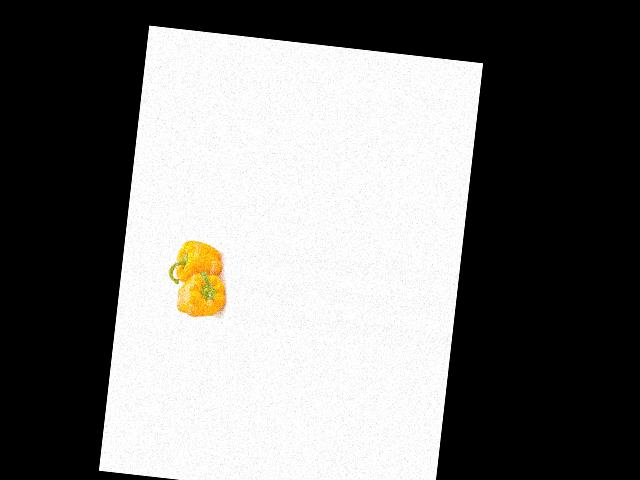bell_pepper: (169, 237, 225, 290)
